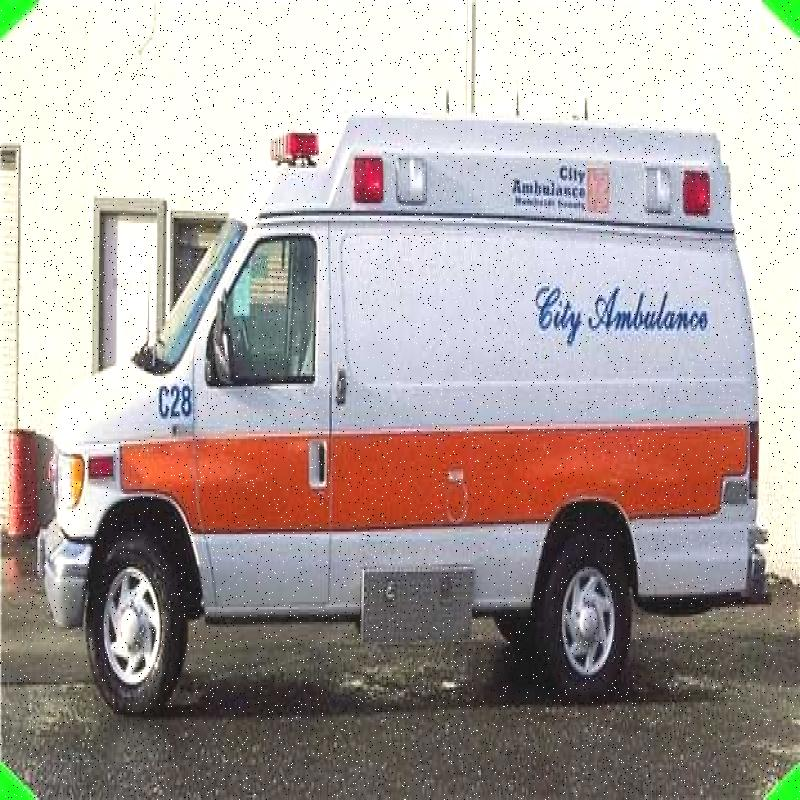AmbulanceSiren: (264, 108, 330, 188)
